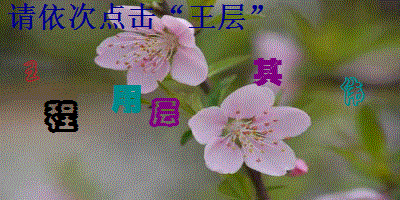text: (42, 99, 81, 135), (148, 97, 182, 129), (111, 83, 143, 115), (252, 57, 284, 88), (340, 76, 366, 107), (22, 58, 43, 83)
